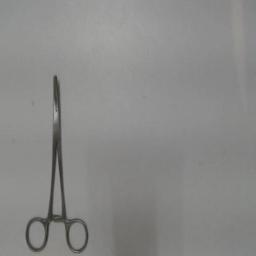Crile Artery Forceps: (22, 70, 92, 254)
